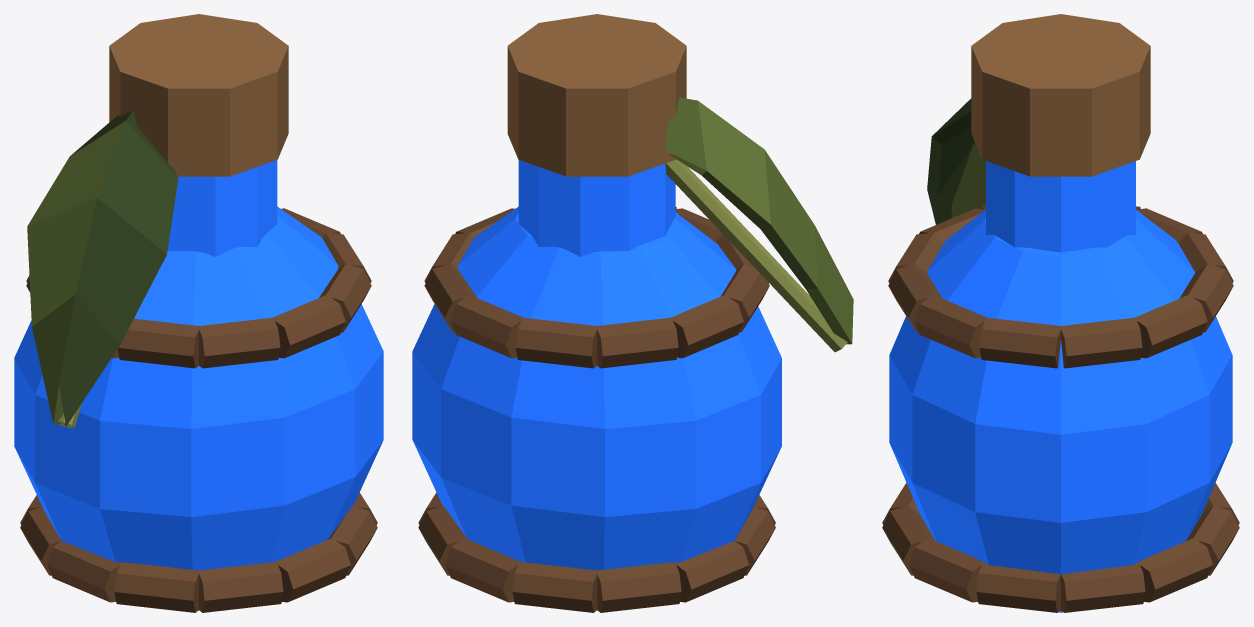
The model's file is mana-draught.glb.
The picture shows the model from 3 angles, left to right: view 1: azimuth 30°, elevation 25°; view 2: azimuth 150°, elevation 25°; view 3: azimuth 270°, elevation 25°; orthographic projection.
Visible parts, largest first — view 1: mana-draught; view 2: mana-draught; view 3: mana-draught.
Boxes of the visible parts, left/top/right/bottom form: mana-draught: left=14, top=14, right=383, bottom=612; mana-draught: left=412, top=14, right=853, bottom=612; mana-draught: left=882, top=14, right=1239, bottom=612.
Size of the model in its own units: 0.6933 by 0.99 by 0.5895.
